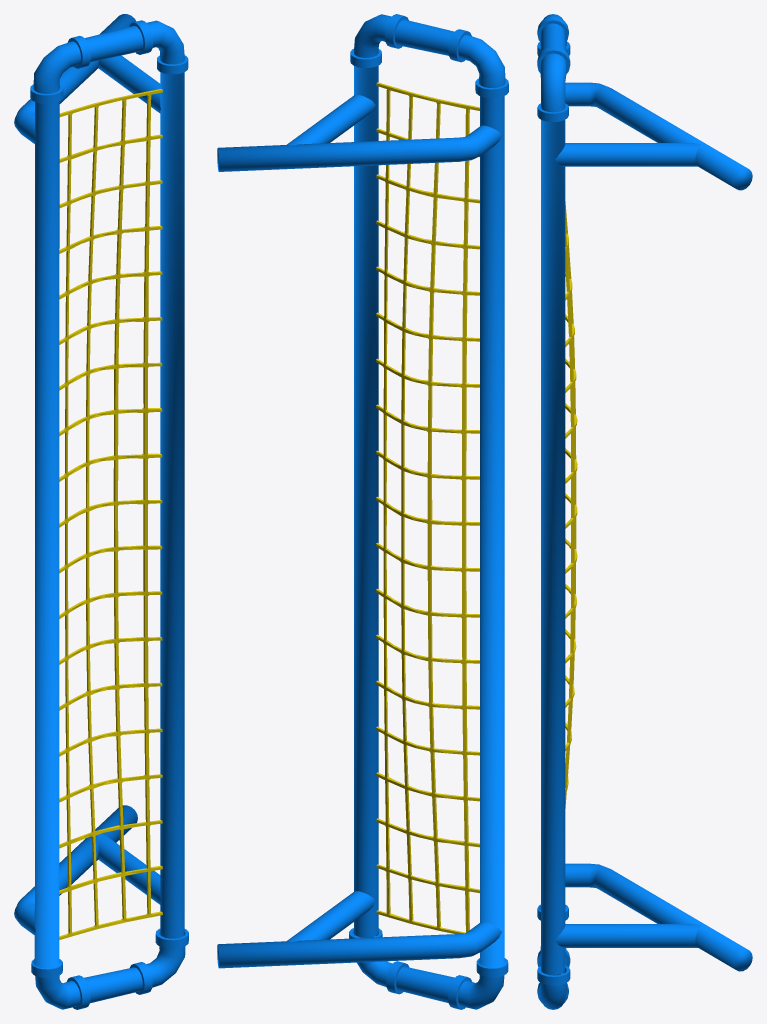
The model's file is Safety_Nets_Small_Blue.glb.
The picture shows the model from 3 angles, left to right: view 1: azimuth 30°, elevation 25°; view 2: azimuth 150°, elevation 25°; view 3: azimuth 270°, elevation 25°; orthographic projection.
Parts seen in each view (by area): view 1: Safety_Nets_Small_Blue; view 2: Safety_Nets_Small_Blue; view 3: Safety_Nets_Small_Blue.
Boxes of the visible parts, left/top/right/bottom form: Safety_Nets_Small_Blue: left=14, top=14, right=188, bottom=1009; Safety_Nets_Small_Blue: left=217, top=14, right=508, bottom=1009; Safety_Nets_Small_Blue: left=537, top=14, right=752, bottom=1009.
Bounding box in the file's own units: 1.69 × 7.95 × 1.62.
